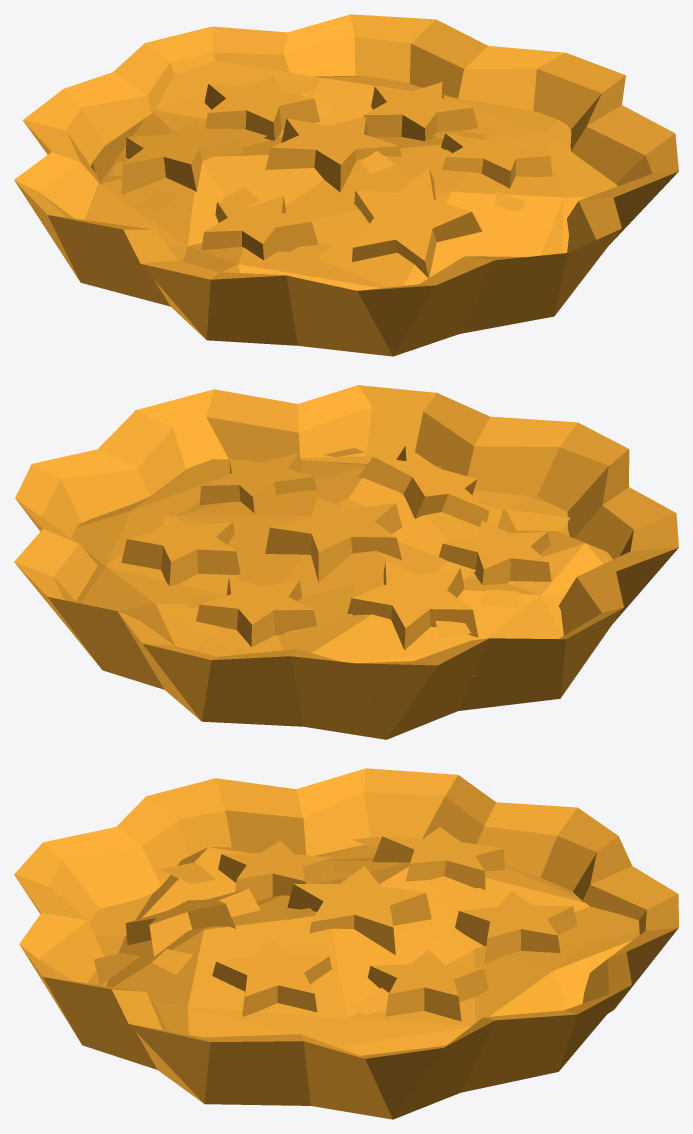
Rendered from SM_Pie_4july_B.fbx.
3 renders of one model, top to bottom at view 1: azimuth 30°, elevation 25°; view 2: azimuth 150°, elevation 25°; view 3: azimuth 270°, elevation 25°, orthographic. The views are drawn at different scales.
Visible parts, largest first — view 1: pie-4july-b; view 2: pie-4july-b; view 3: pie-4july-b.
Part boxes in pixels (x1,y1,x2,y2): pie-4july-b: (14, 14, 678, 356); pie-4july-b: (14, 385, 678, 739); pie-4july-b: (14, 768, 678, 1119).
Size of the model in its own units: 0.278 by 0.0531 by 0.2701.
